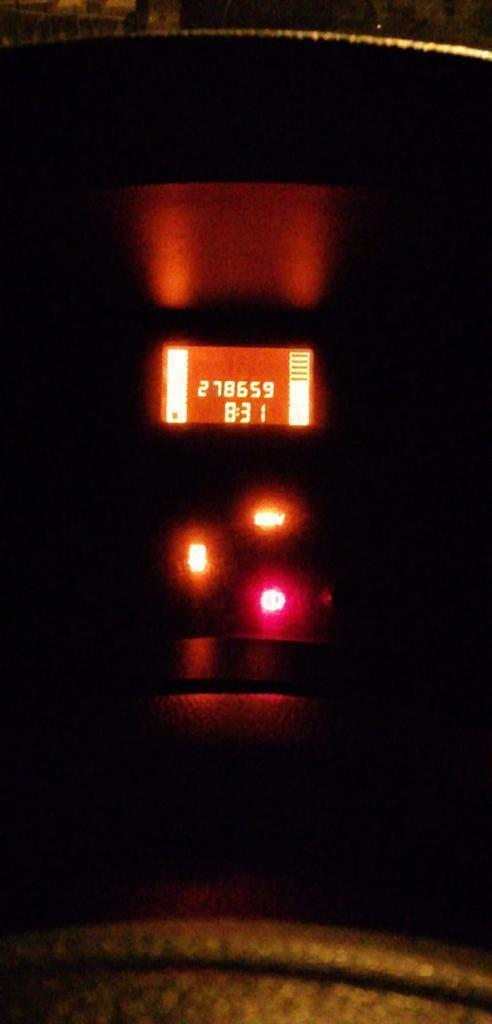1: (260, 403, 266, 424)
2: (196, 379, 209, 397)
3: (239, 401, 251, 423)
5: (249, 381, 261, 398)
6: (236, 380, 248, 398)
7: (212, 380, 222, 397)
8: (224, 401, 236, 423), (223, 380, 235, 397)
9: (262, 380, 274, 398)
X: (235, 406, 240, 416)
odometer: (157, 343, 317, 429)
